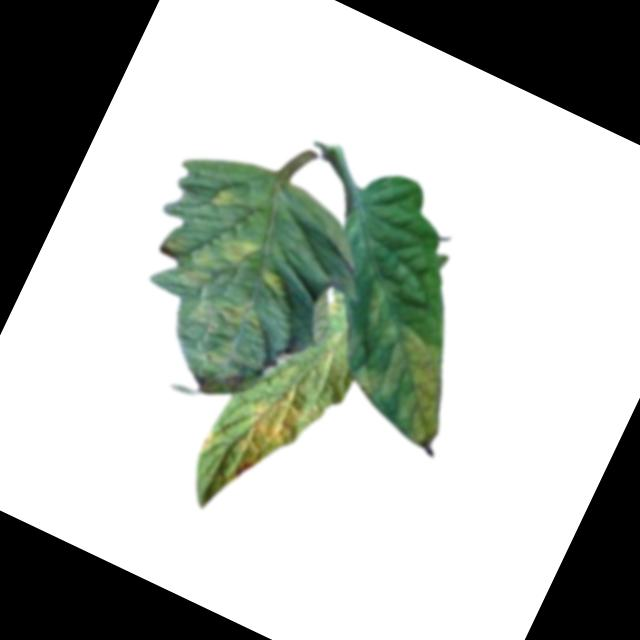Leaf_Mold: (139, 216, 304, 400), (318, 280, 483, 452), (219, 359, 336, 505), (205, 179, 243, 215)
